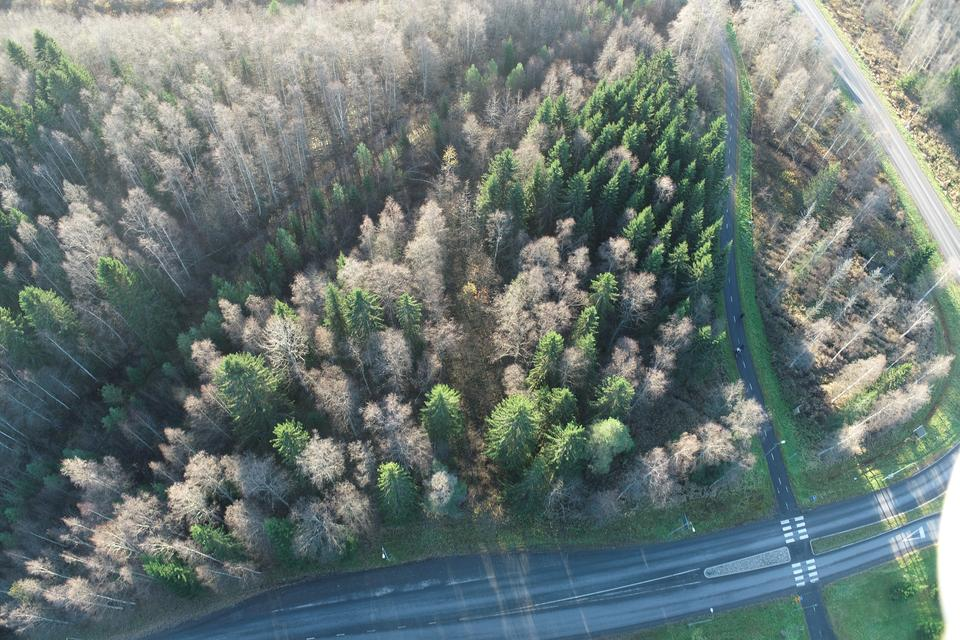intersection: (763, 492, 849, 611)
